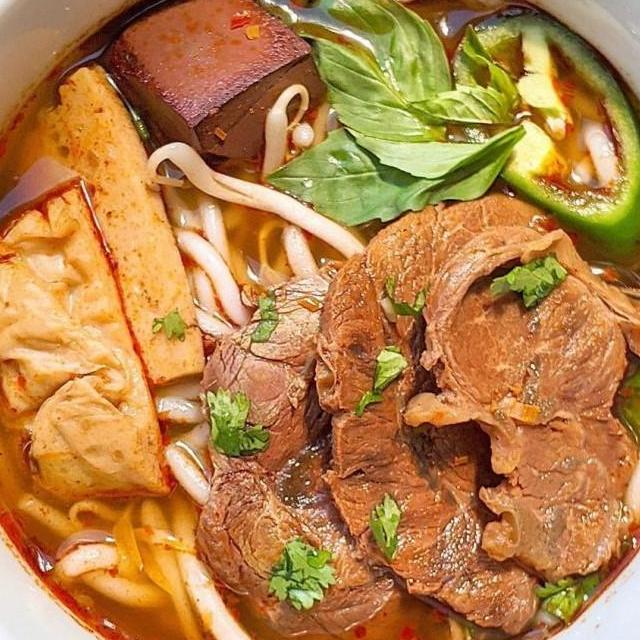bun: (0, 394, 450, 640), (146, 154, 331, 350), (139, 372, 236, 518), (611, 170, 640, 530), (316, 0, 512, 47)
bun bo: (0, 0, 640, 640)
thit bo: (298, 182, 607, 640), (186, 255, 442, 640), (395, 215, 640, 590)
